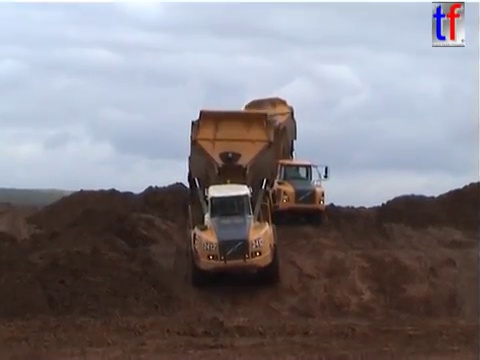truck: (183, 107, 284, 289), (233, 95, 331, 227)
